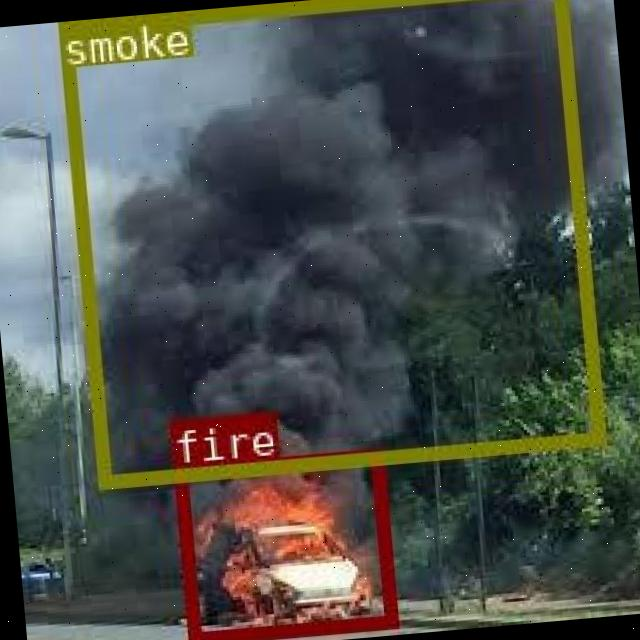fire: (173, 447, 395, 640)
smoke: (55, 0, 604, 487)
